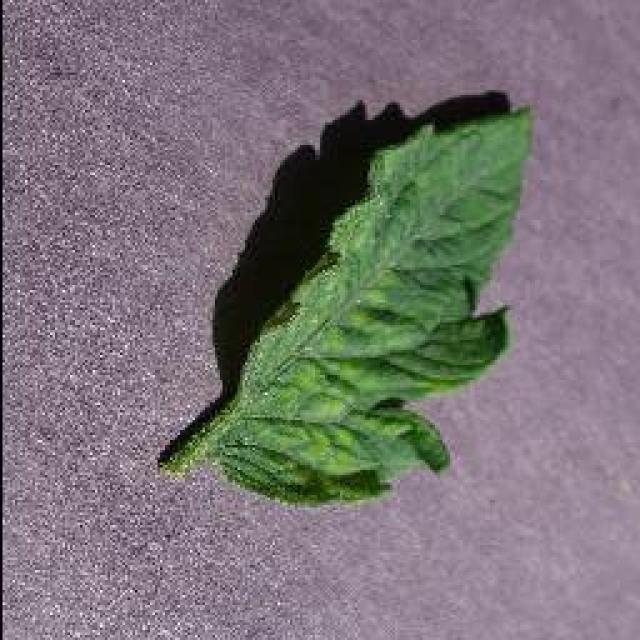Tomato___Tomato_mosaic_virus: (165, 108, 530, 502)
